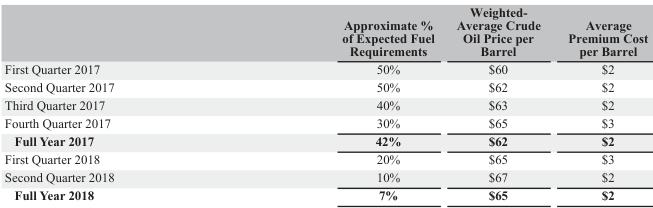table: (3, 4, 647, 202)
table column: (3, 4, 227, 202), (227, 4, 444, 202), (444, 4, 553, 202), (553, 4, 647, 202)
table column header: (3, 4, 647, 59)
table row: (3, 4, 647, 59), (3, 149, 647, 168), (3, 59, 647, 77), (3, 77, 647, 95), (3, 95, 647, 113), (3, 113, 647, 131), (3, 131, 647, 149), (3, 168, 647, 186), (3, 186, 647, 202)
